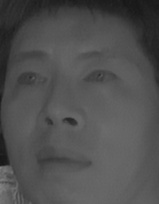eye: (83, 67, 120, 89), (16, 68, 48, 90)
mouth: (32, 143, 94, 179)
